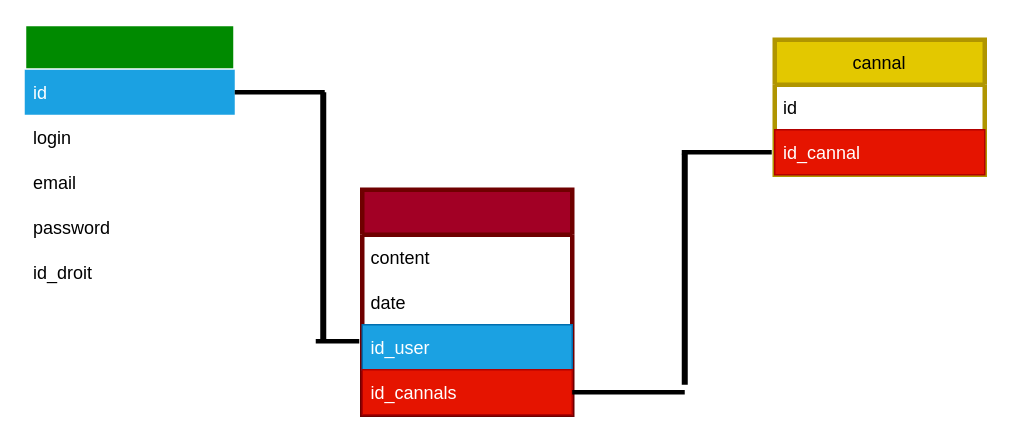
This 1010x440 diagram has some shape labels left out. Each missing label, with the box of its shape:
messages: (359, 187, 574, 416)
User: (22, 22, 236, 296)
